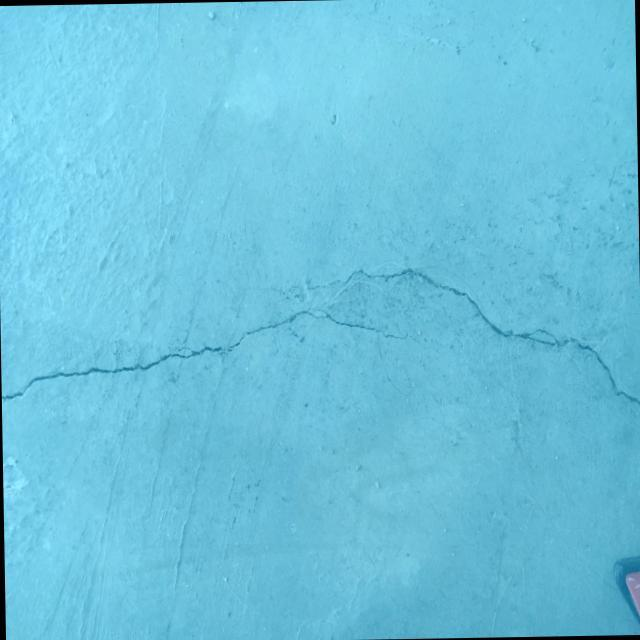crack: (259, 262, 640, 414), (0, 305, 439, 402)
